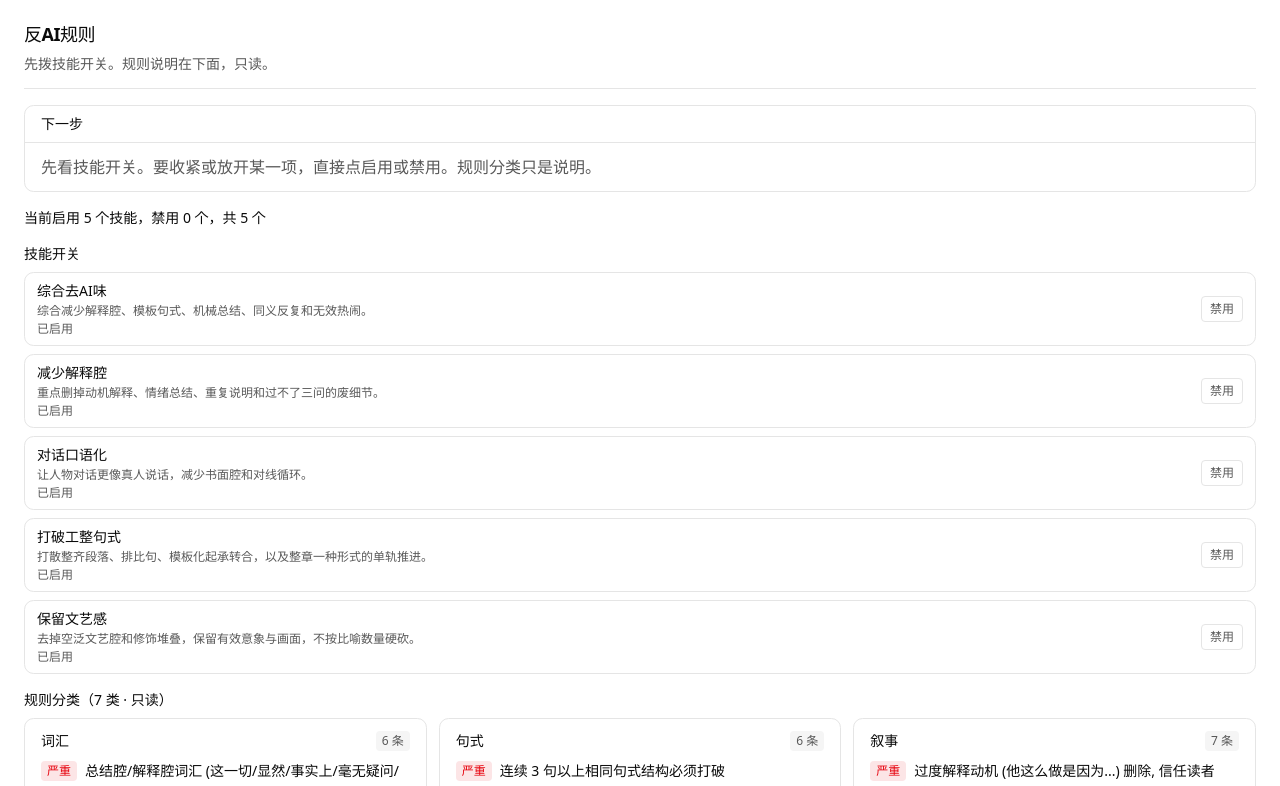
Test case: AntiAiRulesView › 保存失败：显式报错且不翻转状态
The width and height of the screenshot is (1280, 786).
Click the button with test id "anti-ai-toggle-built-in:reduce-explanation" at (1222, 391), box [1201,378,1243,404]
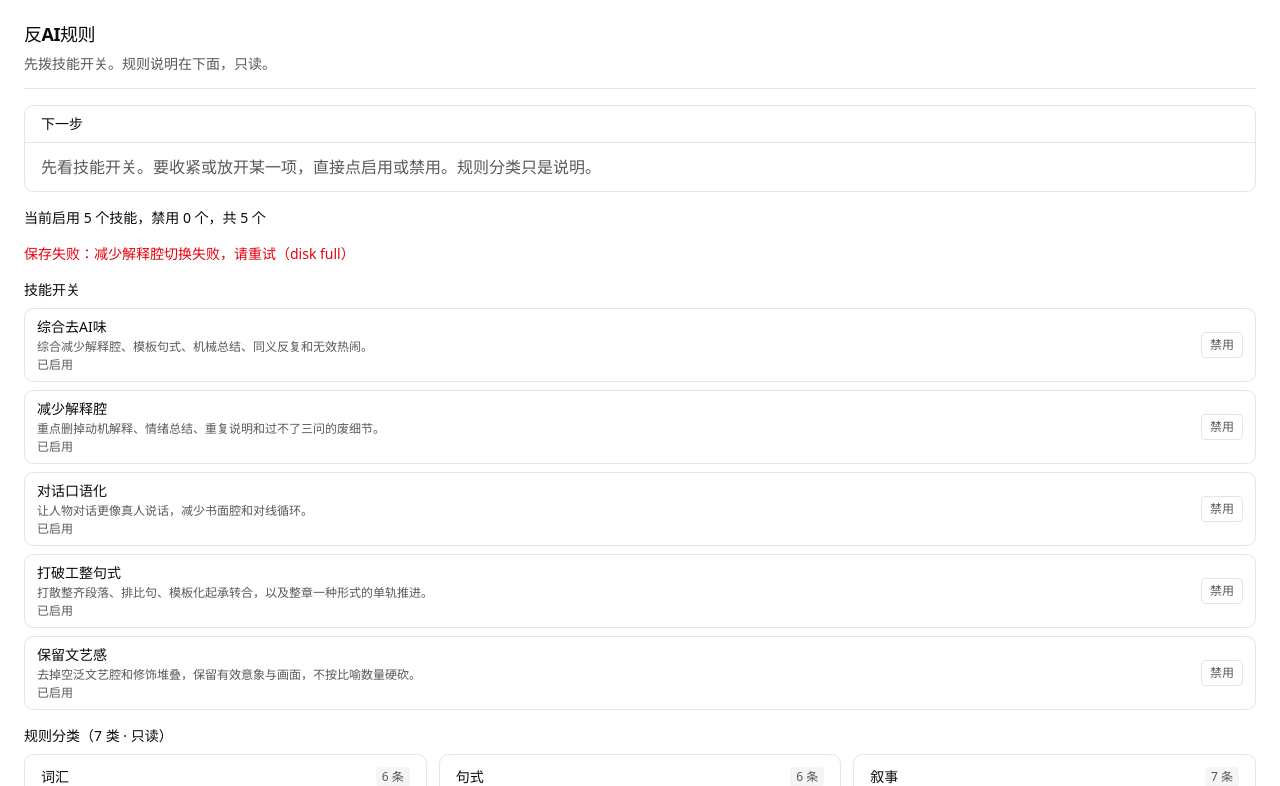
Expected: the text with test id "anti-ai-skill-status-built-in:reduce-explanation" reads "已启用", [37,438,73,455]
Result: the text with test id "anti-ai-save-error" shows "保存失败" at [24,244,355,263]
